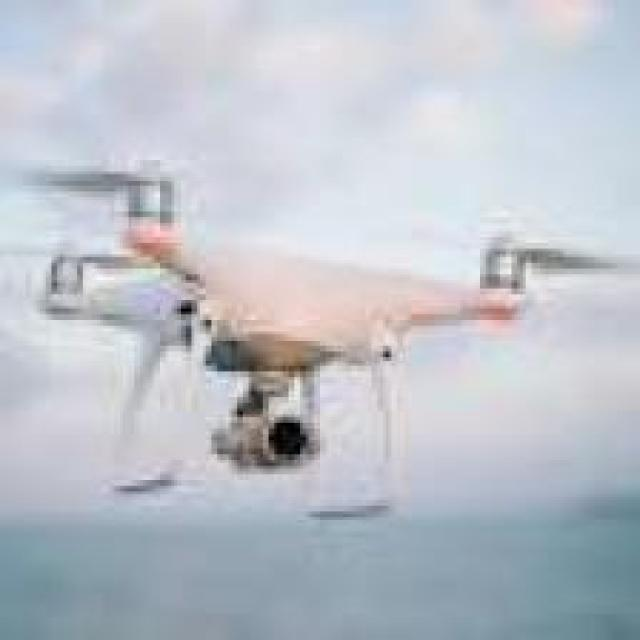drone: (0, 144, 640, 533)
